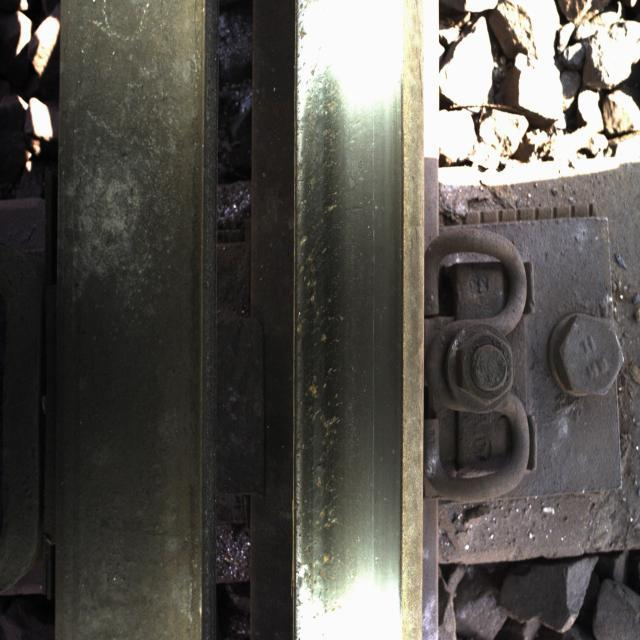scar: (290, 38, 356, 588)
